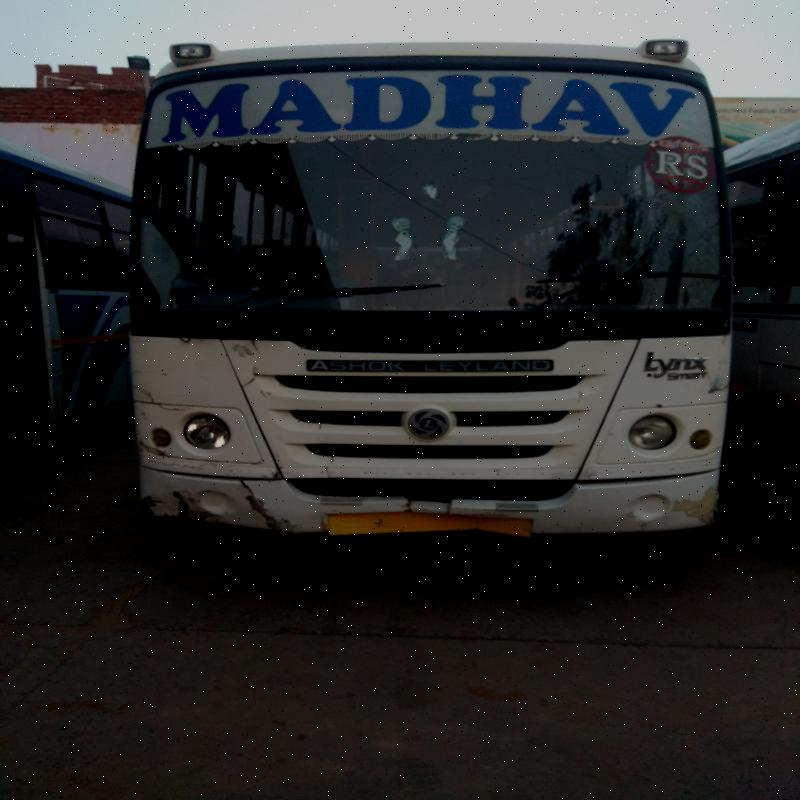bus: (140, 39, 726, 536)
